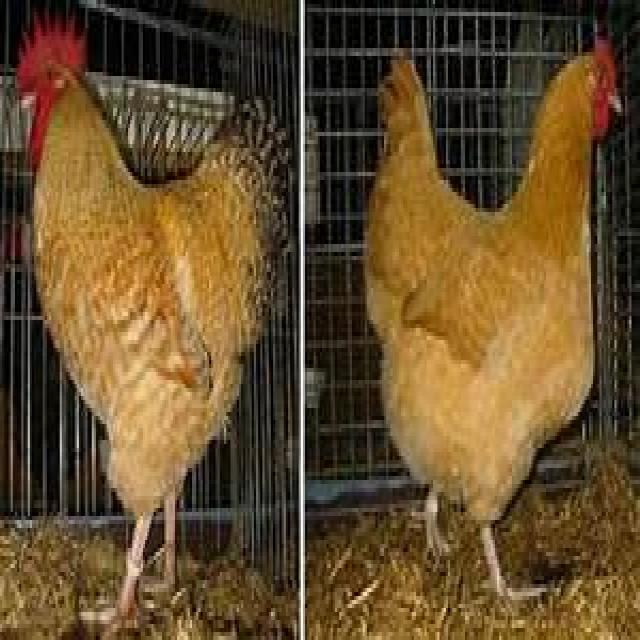hen: (23, 52, 290, 632), (363, 52, 610, 600)
